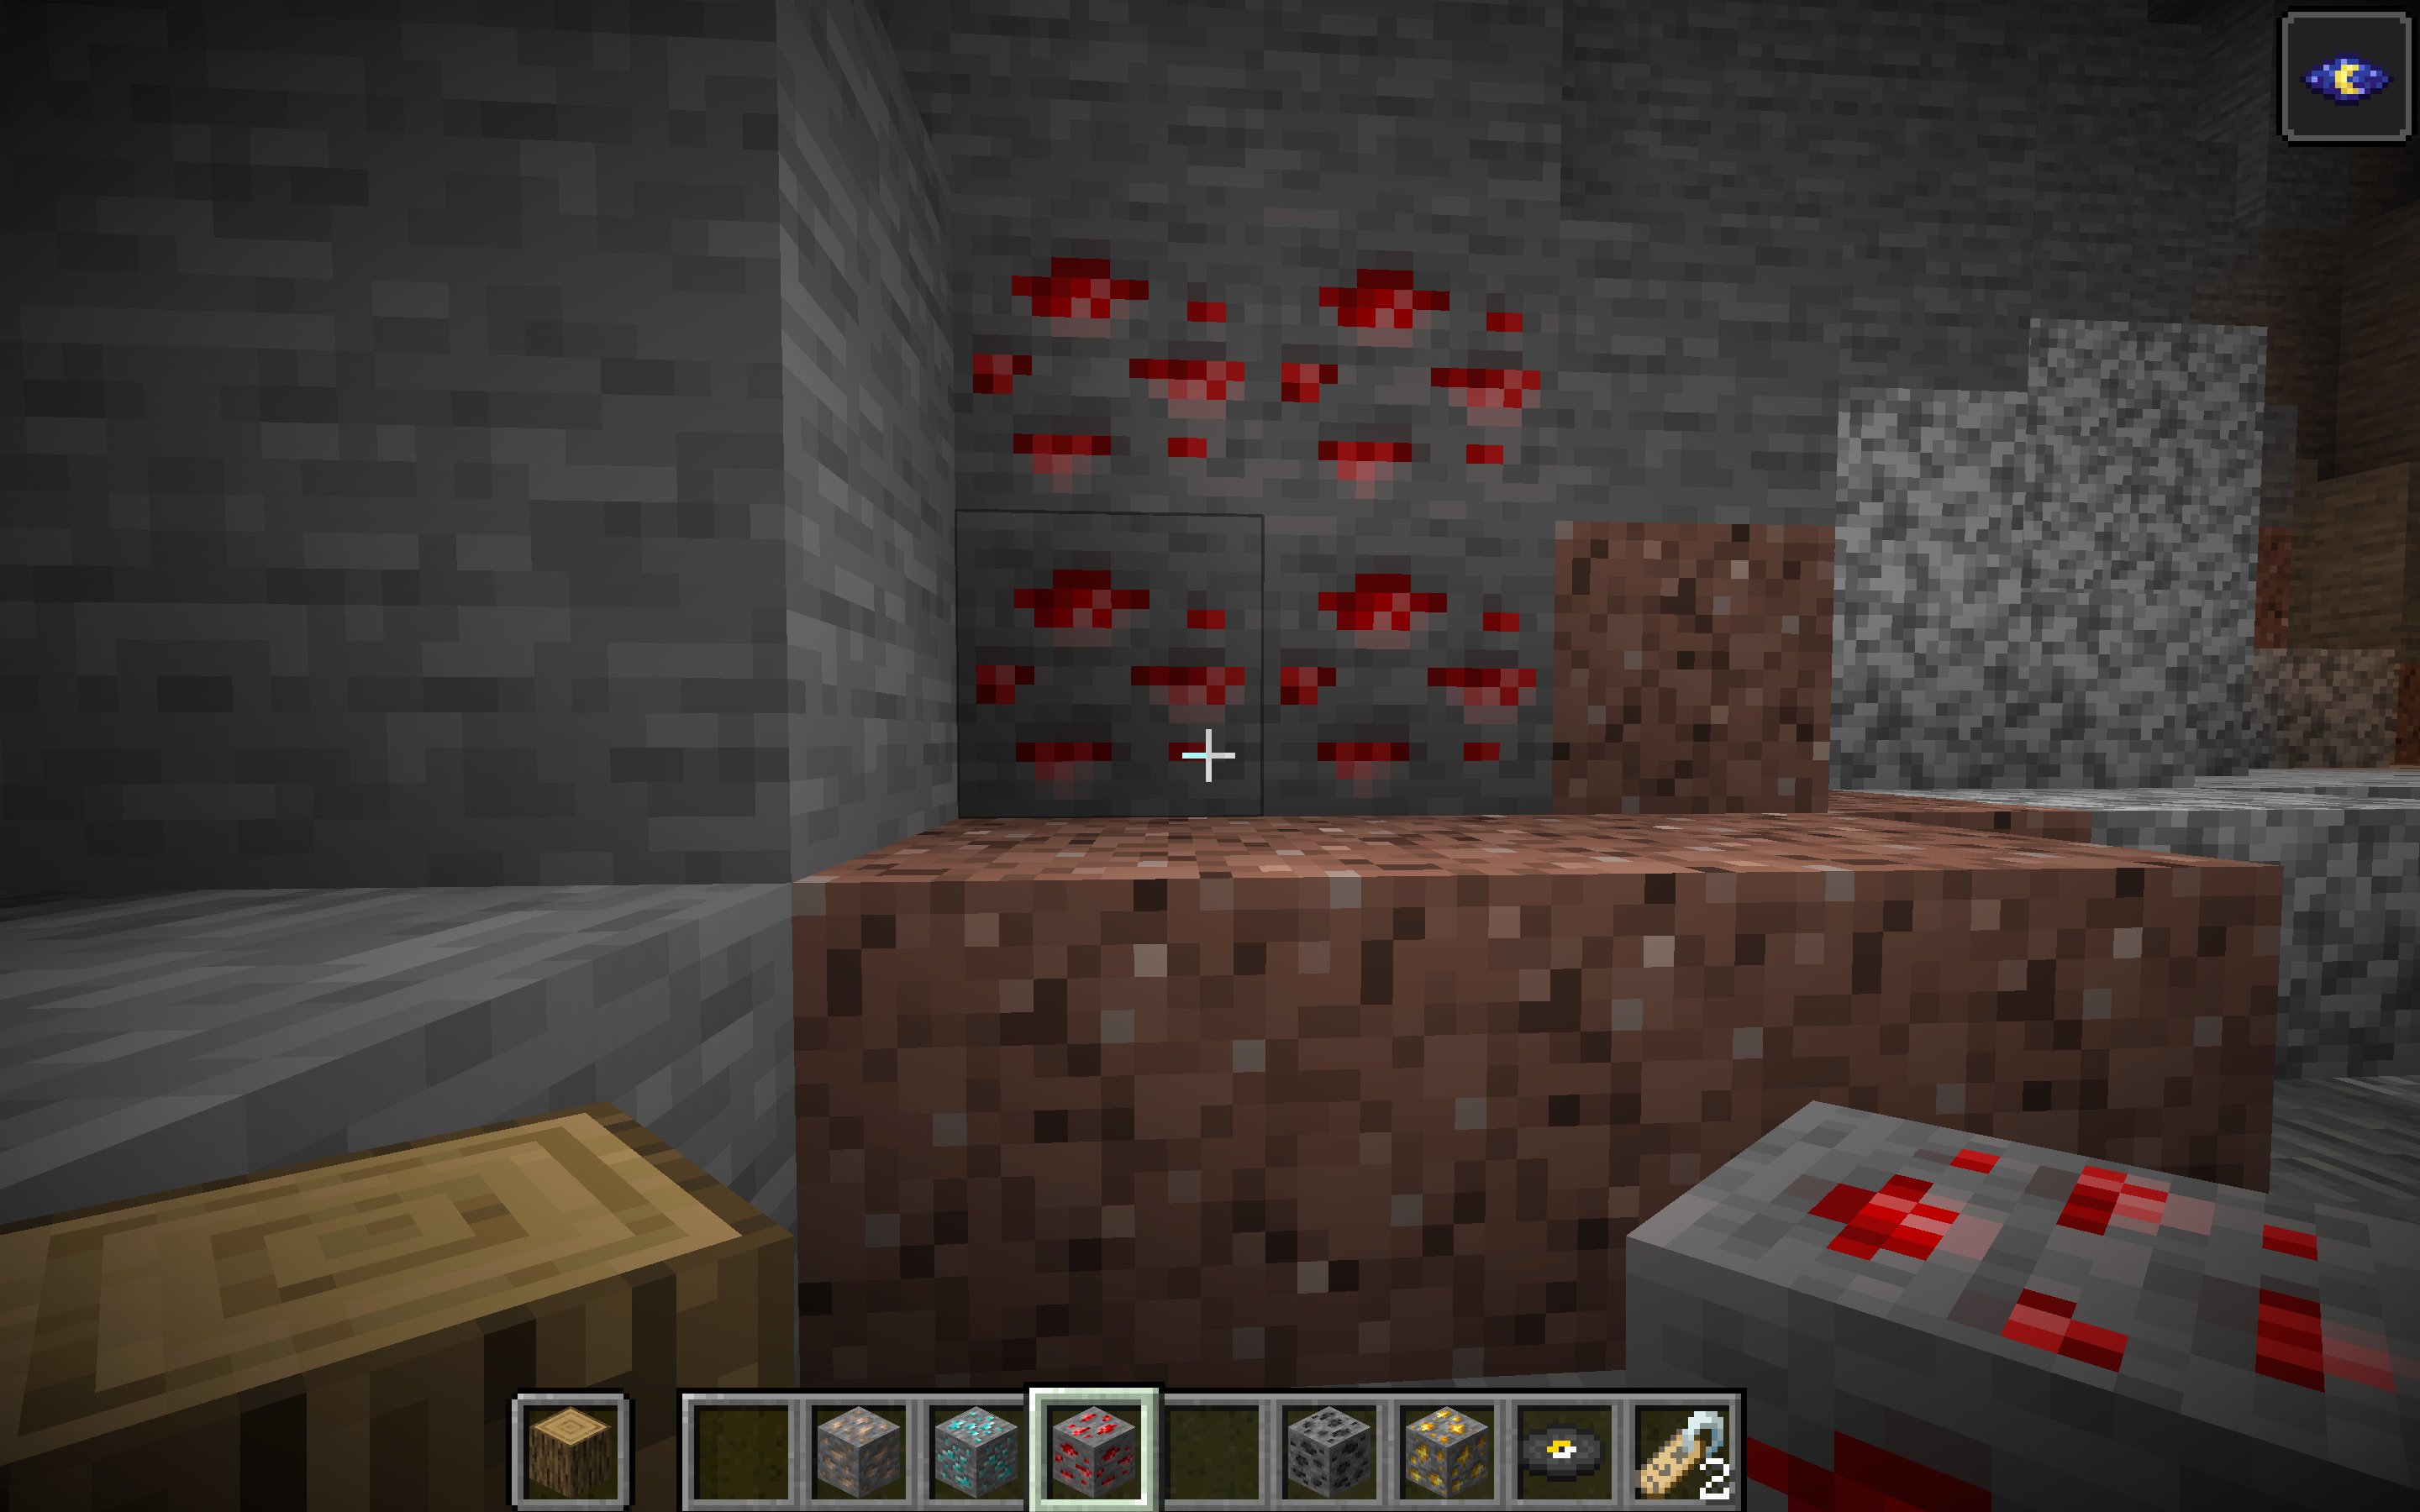redstone: (625, 129, 2068, 1070)
